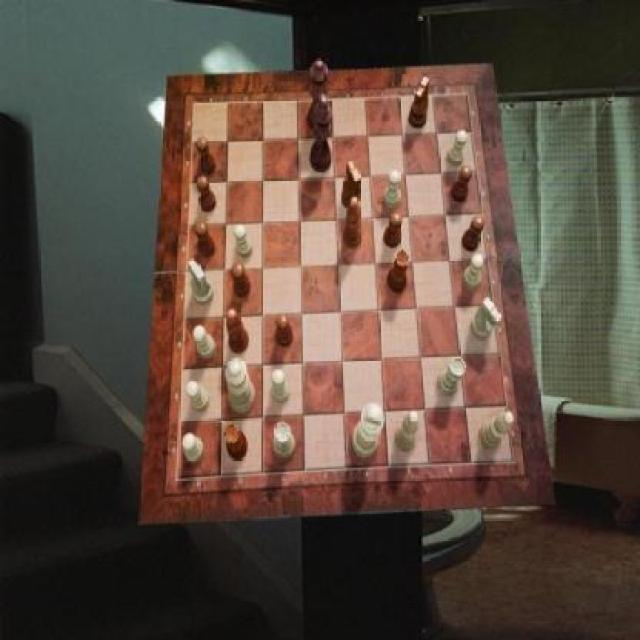bishop: (226, 309, 249, 355), (343, 197, 361, 251)
black-bishop: (311, 94, 334, 174)
black-king: (409, 77, 430, 129), (342, 160, 362, 209)
black-knight: (451, 166, 473, 202), (463, 217, 486, 251), (196, 222, 217, 259), (197, 137, 217, 175), (232, 263, 252, 299), (197, 176, 217, 212), (383, 212, 402, 248), (275, 312, 293, 347)
black-pawn: (308, 59, 330, 132)
black-queen: (388, 250, 410, 294), (224, 423, 248, 461)
black-rook: (478, 411, 514, 449), (395, 411, 420, 453)
white-bishop: (352, 403, 386, 458)
white-king: (471, 297, 502, 339), (188, 260, 214, 306)
white-knight: (194, 325, 217, 359), (463, 254, 484, 290), (188, 380, 210, 412), (448, 131, 468, 165), (181, 434, 204, 463), (384, 171, 402, 208), (271, 369, 290, 404), (234, 225, 253, 259)
white-pawn: (226, 358, 257, 414)
white-queen: (439, 357, 466, 397), (274, 422, 297, 459)
